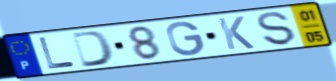8: (126, 25, 164, 62)
D: (70, 29, 116, 69)
G: (164, 20, 207, 57)
K: (215, 15, 257, 51)
L: (37, 36, 78, 70)
S: (256, 11, 299, 47)
